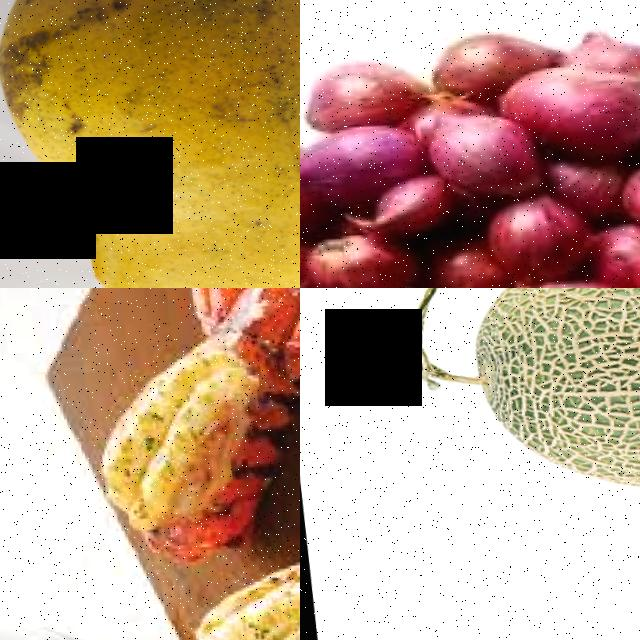lobster tails: (129, 288, 300, 478)
mango: (0, 0, 300, 288)
melon: (435, 288, 640, 525)
onion: (499, 40, 640, 159), (412, 0, 549, 99), (428, 93, 546, 196), (300, 39, 420, 139), (485, 183, 597, 284), (300, 108, 425, 191), (308, 219, 415, 288), (523, 259, 640, 288), (300, 120, 324, 235)
